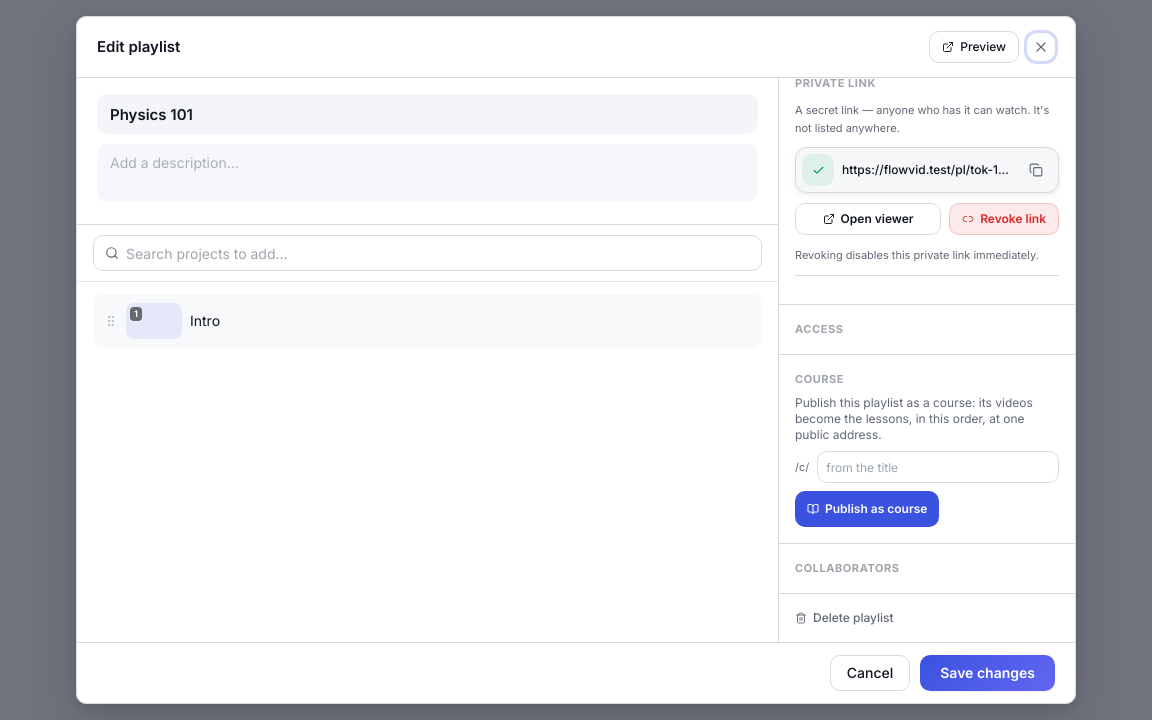
Test case: playlist editor — Delete › Cancel answers the confirmation without deleting anything
(page scrolled)
Click the button "Delete playlist" at [844, 618], box [795,610,894,626]
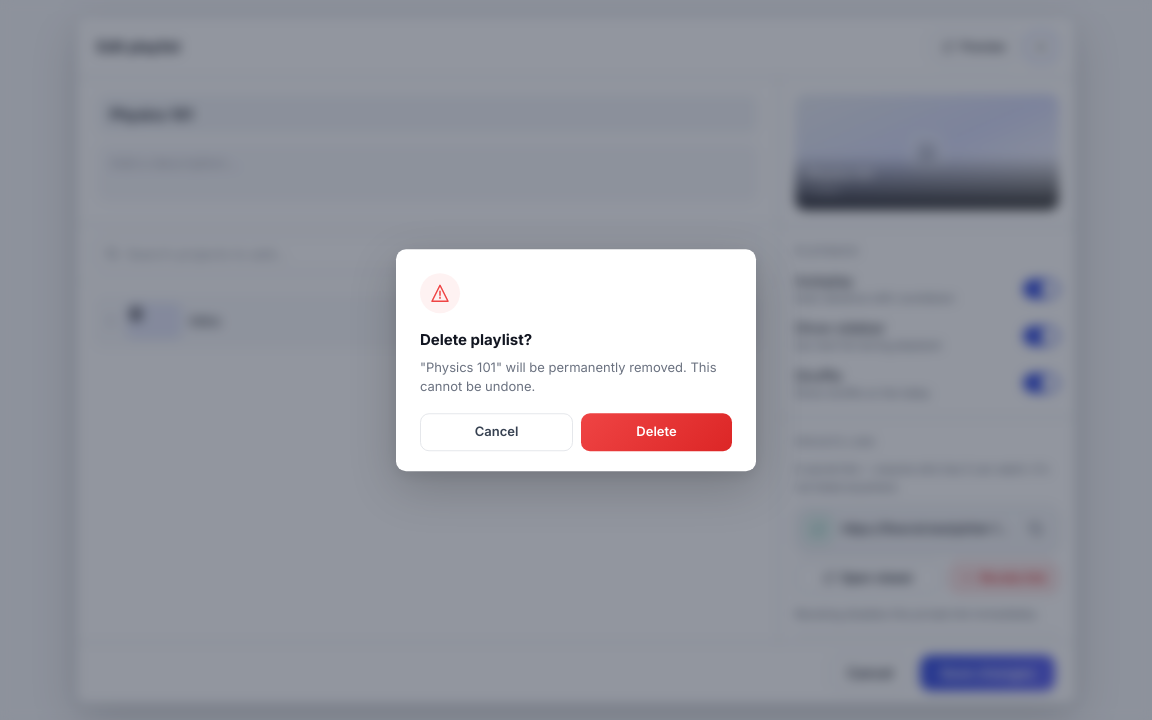
Click the button "Cancel" at [496, 432], box [420,413,573,451]
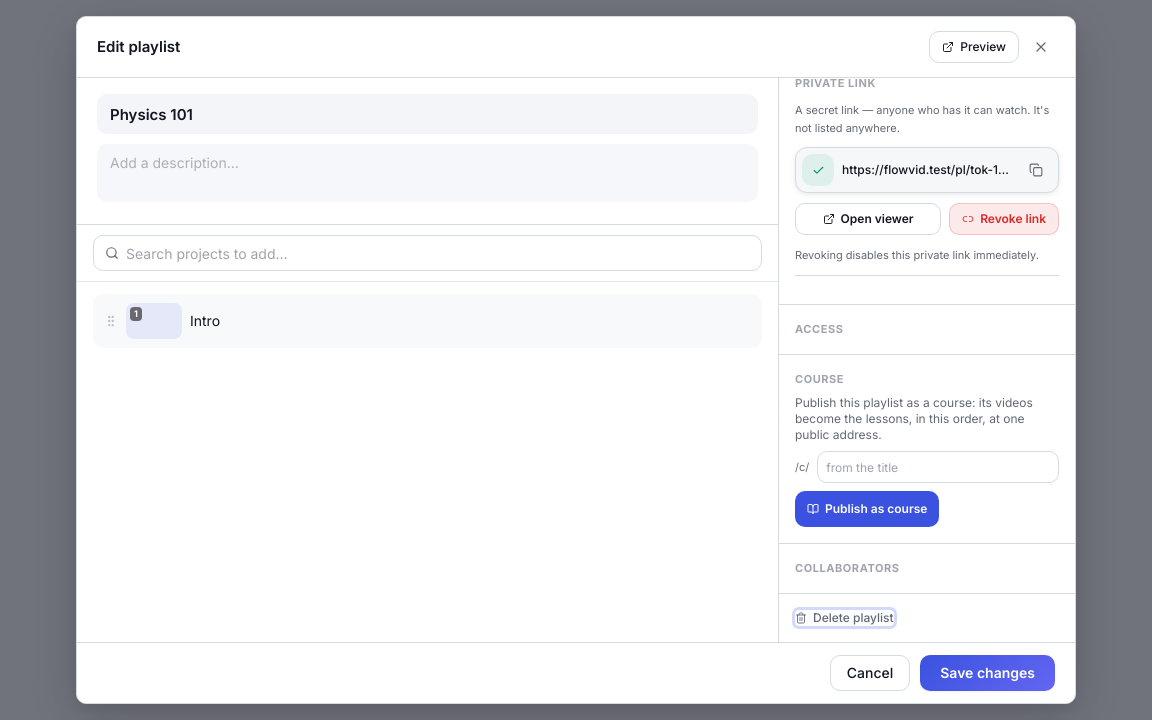
expect the text "Delete playlist?" is gone: met
